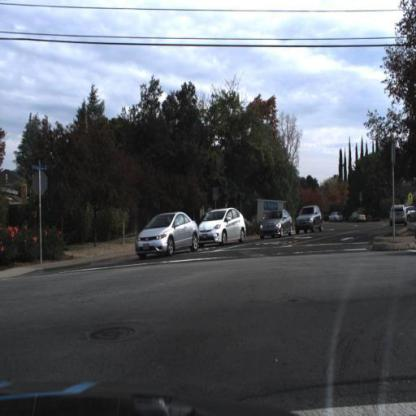car: (135, 212, 201, 257), (197, 208, 250, 248), (258, 209, 295, 241), (295, 205, 325, 237), (349, 207, 367, 223)
